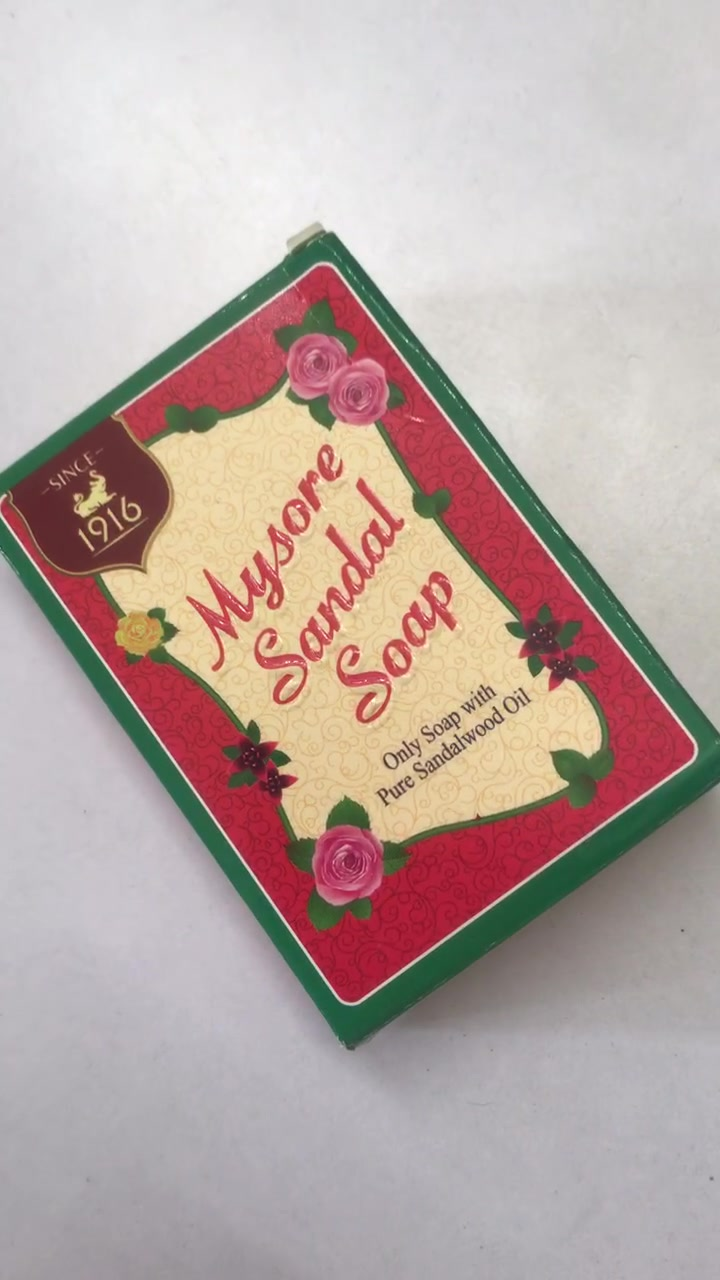mysore sandal soap: (2, 238, 720, 1055)
